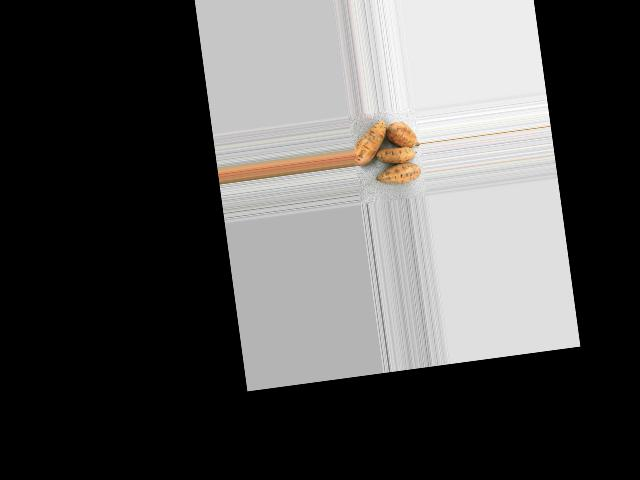sweet_potato: (348, 116, 391, 171)
